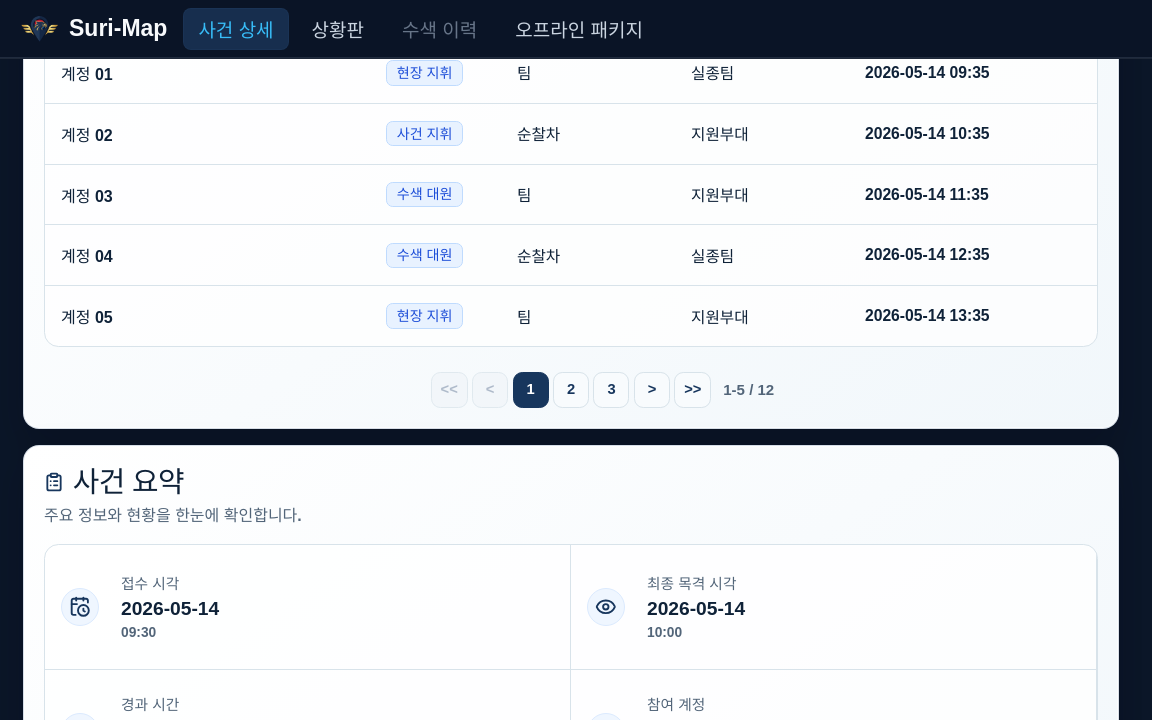
IncidentDetailPage › paginates assignment rows five at a time
(page scrolled)
Check: the text "계정 01" is shown, box [61,66,113,83]
Check: the text "계정 05" is shown, box [61,309,113,326]
Click the button "2". click: (571, 390)
box: [553,372,589,408]
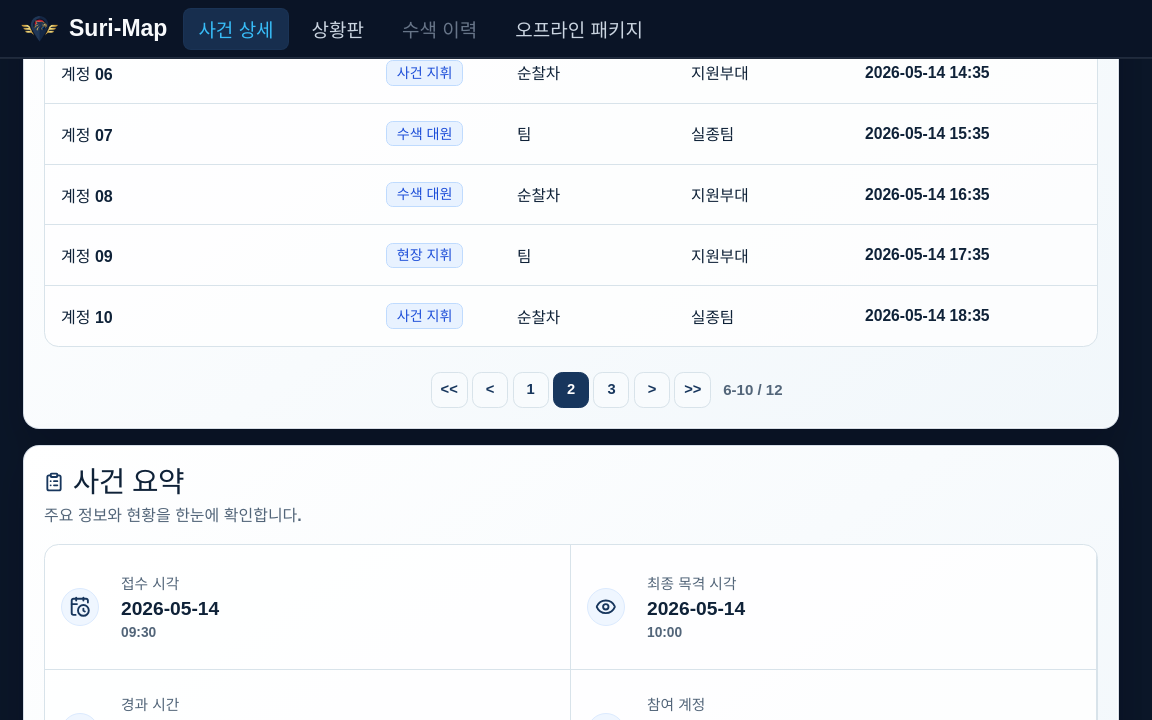
Check: the text "계정 06" is shown, box [61,66,113,83]
Check: the text "계정 10" is shown, box [61,309,113,326]
Check: the text "계정 01" is gone
